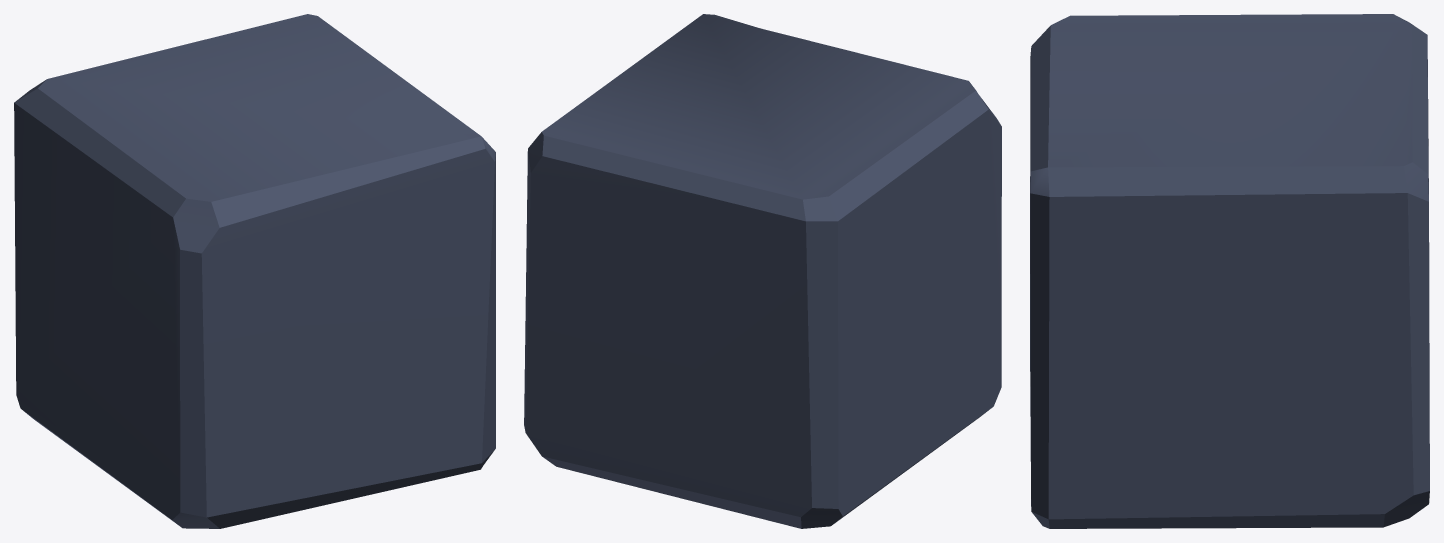
File: Pave02.fbx
The picture shows the model from 3 angles, left to right: view 1: azimuth 30°, elevation 25°; view 2: azimuth 150°, elevation 25°; view 3: azimuth 270°, elevation 25°; orthographic projection. The views are drawn at different scales.
Visible parts, largest first — view 1: Pave2; view 2: Pave2; view 3: Pave2.
Boxes of the visible parts, x1,y1,x2,y2 form: Pave2: [14, 14, 495, 528]; Pave2: [524, 14, 1001, 528]; Pave2: [1030, 14, 1429, 528].
Size of the model in its own units: 80.68 by 80.93 by 81.01.
